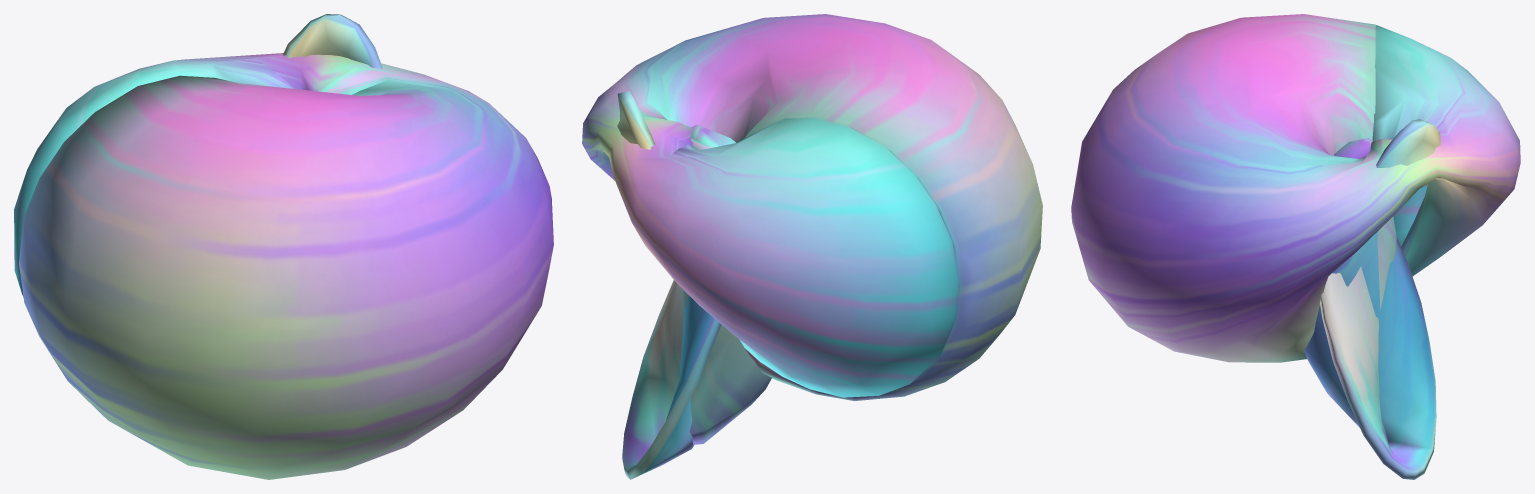
Rendered from randomshape1.glb.
3 renders of one model, left to right at view 1: azimuth 30°, elevation 25°; view 2: azimuth 150°, elevation 25°; view 3: azimuth 270°, elevation 25°, orthographic. The views are drawn at different scales.
Visible parts, largest first — view 1: SuperShapesMesh; view 2: SuperShapesMesh; view 3: SuperShapesMesh.
Boxes of the visible parts, left/top/right/bottom form: SuperShapesMesh: left=14, top=14, right=553, bottom=479; SuperShapesMesh: left=582, top=14, right=1042, bottom=479; SuperShapesMesh: left=1071, top=14, right=1520, bottom=479.
Size of the model in its own units: 4.39 by 4.03 by 4.38.
1 material, 1 textured.
